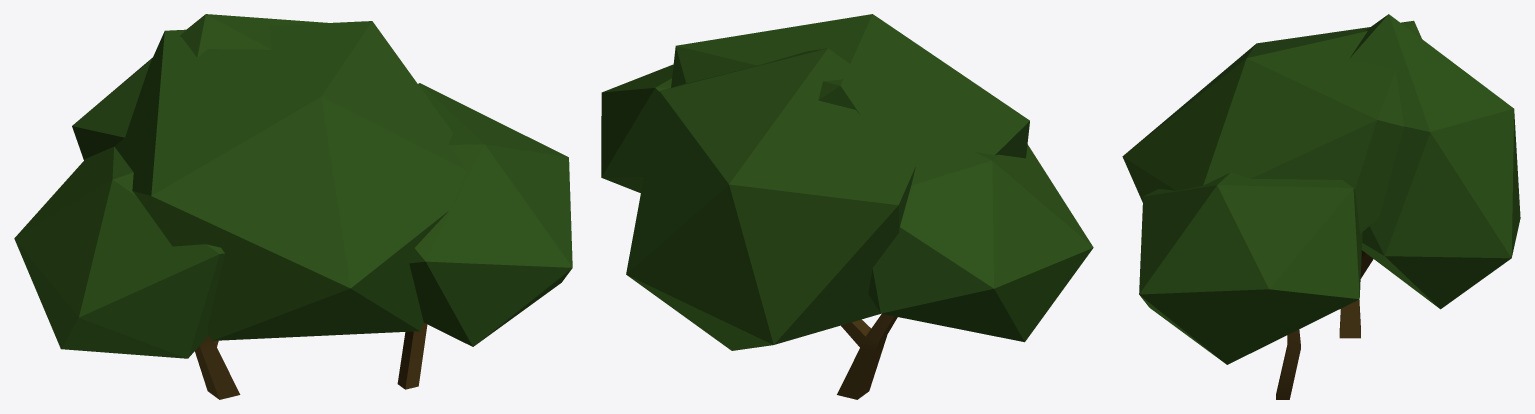
File: bush_1.fbx
3 views of the same model, side by side, from view 1: azimuth 30°, elevation 25°; view 2: azimuth 150°, elevation 25°; view 3: azimuth 270°, elevation 25° (orthographic). The views are drawn at different scales.
Parts seen in each view (by area): view 1: GeoSphere036, GeoSphere038, GeoSphere035, GeoSphere037, Box004; view 2: GeoSphere037, GeoSphere038, GeoSphere036, GeoSphere035, Box004; view 3: GeoSphere035, GeoSphere036, GeoSphere037, Box004.
Boxes of the visible parts, bbox=[...] form: GeoSphere036: bbox=[114, 21, 466, 340]; GeoSphere038: bbox=[14, 146, 224, 358]; GeoSphere035: bbox=[409, 83, 572, 346]; GeoSphere037: bbox=[72, 14, 327, 159]; Box004: bbox=[195, 323, 427, 399]; GeoSphere037: bbox=[626, 48, 915, 350]; GeoSphere038: bbox=[868, 144, 1093, 342]; GeoSphere036: bbox=[671, 14, 1029, 184]; GeoSphere035: bbox=[601, 64, 673, 193]; Box004: bbox=[837, 314, 897, 399]; GeoSphere035: bbox=[1139, 172, 1362, 364]; GeoSphere036: bbox=[1122, 20, 1421, 233]; GeoSphere037: bbox=[1349, 14, 1520, 309]; Box004: bbox=[1276, 250, 1373, 399].
Size of the model in its own units: 119 by 83.27 by 93.5.
